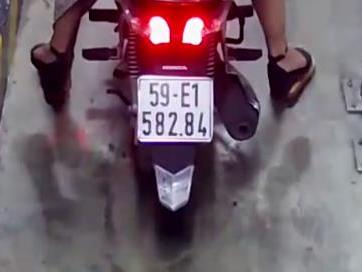num_plate: (136, 74, 214, 144)
